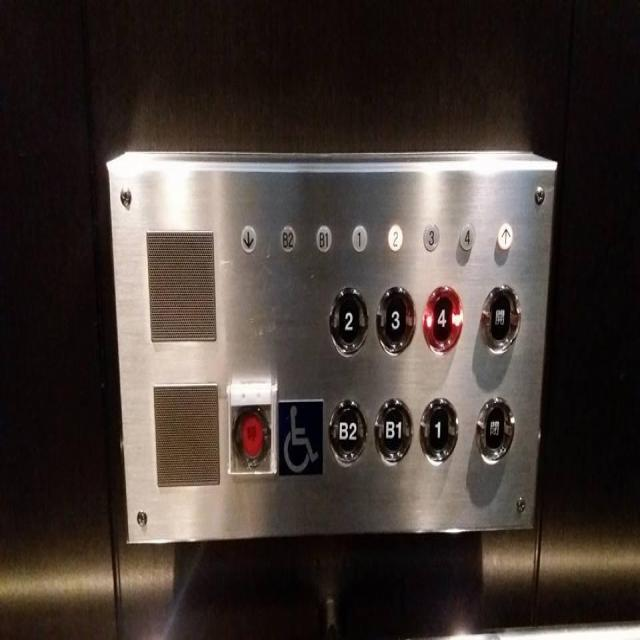1: (416, 393, 458, 467), (350, 222, 368, 254)
2: (326, 283, 369, 358), (386, 220, 404, 252)
3: (373, 282, 416, 357), (422, 220, 439, 252)
4: (420, 282, 463, 357), (458, 220, 476, 252)
B1: (370, 393, 412, 467), (314, 222, 332, 254)
B2: (326, 395, 368, 468), (278, 222, 296, 254)
CH: (275, 396, 324, 479)
down: (239, 222, 257, 254)
text: (224, 378, 278, 479), (473, 392, 517, 467), (479, 280, 522, 354)
up: (496, 220, 514, 252)
